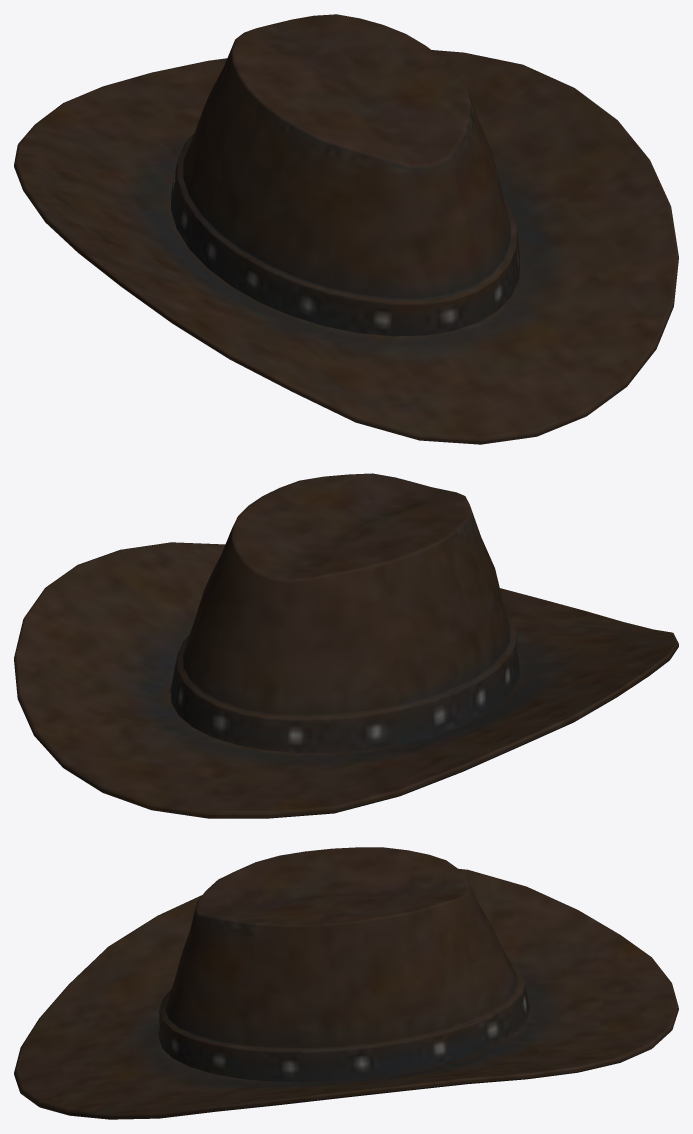
The model's file is hat_cowboy.gltf.
The picture shows the model from 3 angles, top to bottom: view 1: azimuth 30°, elevation 25°; view 2: azimuth 150°, elevation 25°; view 3: azimuth 270°, elevation 25°; orthographic projection. The views are drawn at different scales.
Visible parts, largest first — view 1: hat_cowboy; view 2: hat_cowboy; view 3: hat_cowboy.
Part boxes in pixels (x1=…): hat_cowboy: x1=14, y1=14, x2=678, y2=444; hat_cowboy: x1=14, y1=473, x2=678, y2=818; hat_cowboy: x1=14, y1=847, x2=678, y2=1119.
Size of the model in its own units: 1 by 0.4009 by 1.24.
1 material, 1 textured.
